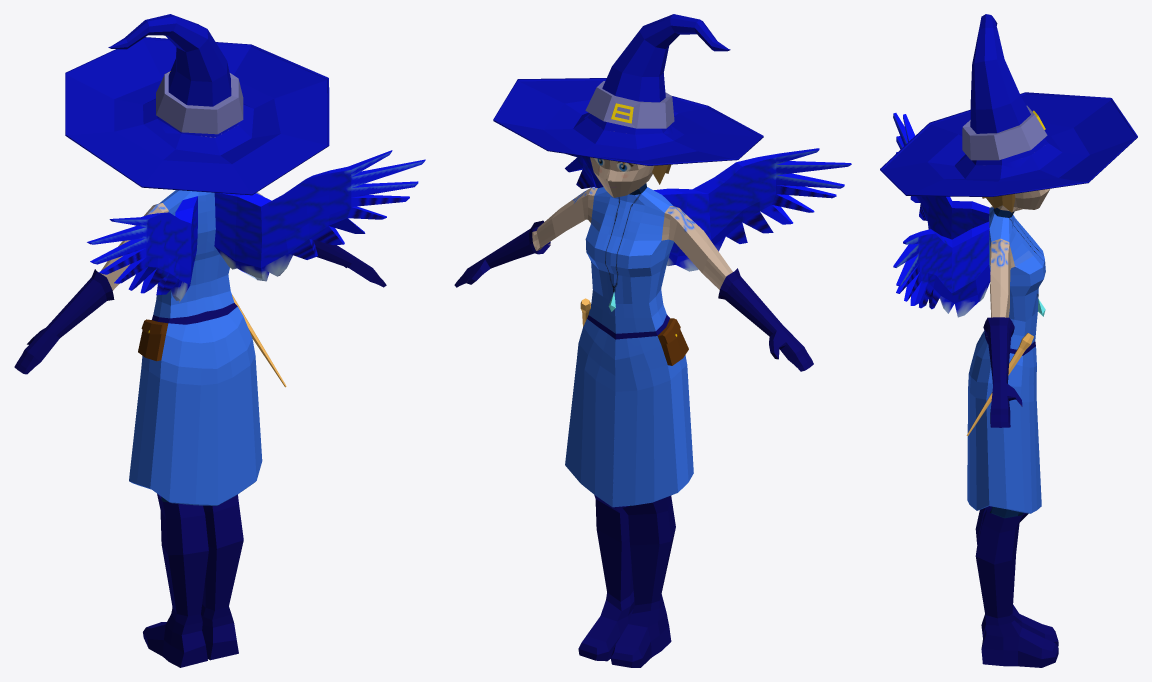
Rendered from Aquarica.fbx.
The picture shows the model from 3 angles, left to right: view 1: azimuth 30°, elevation 25°; view 2: azimuth 150°, elevation 25°; view 3: azimuth 270°, elevation 25°; orthographic projection. The views are drawn at different scales.
Parts seen in each view (by area): view 1: Cube.001; view 2: Cube.001; view 3: Cube.001.
Part boxes in pixels (<box>): Cube.001: <box>14,14,425,667</box>; Cube.001: <box>454,14,851,667</box>; Cube.001: <box>880,14,1137,667</box>.
Bounding box in the file's own units: 307 × 528 × 201.
Materials: 1 (1 with a texture image).
